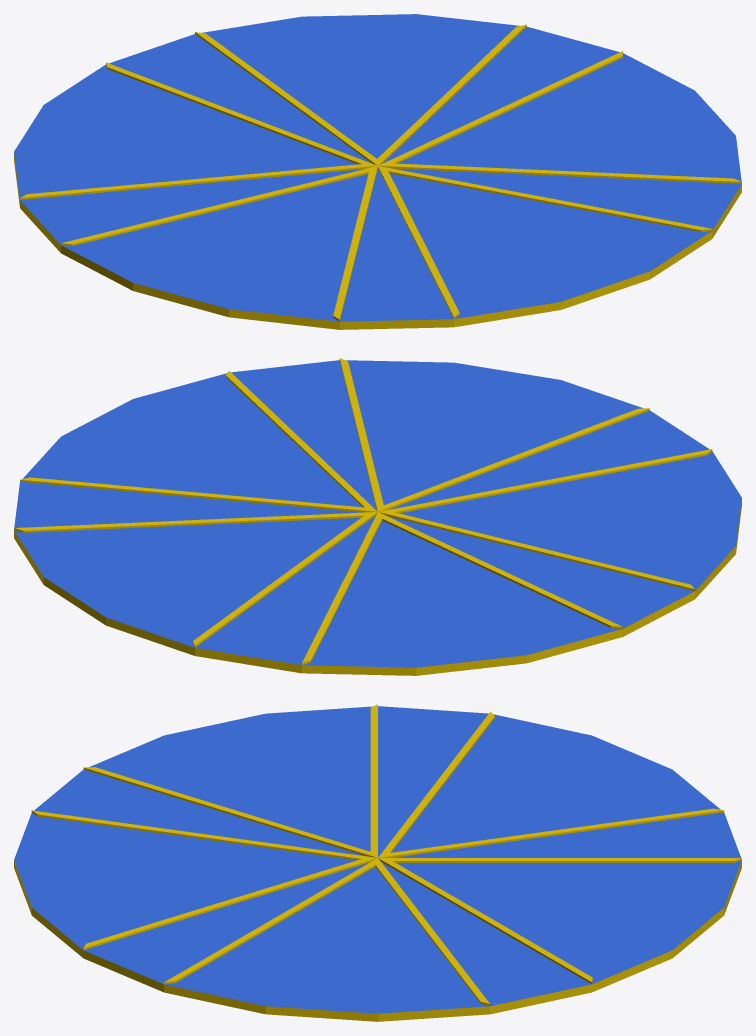
The model's file is plate.fbx.
The picture shows the model from 3 angles, top to bottom: view 1: azimuth 30°, elevation 25°; view 2: azimuth 150°, elevation 25°; view 3: azimuth 270°, elevation 25°; orthographic projection.
Parts seen in each view (by area): view 1: Cylinder; view 2: Cylinder; view 3: Cylinder.
Boxes of the visible parts, x1=… form: Cylinder: x1=14, y1=14, x2=741, y2=329; Cylinder: x1=14, y1=358, x2=741, y2=675; Cylinder: x1=14, y1=704, x2=741, y2=1021.
Bounding box in the file's own units: 200 × 3.07 × 200.
